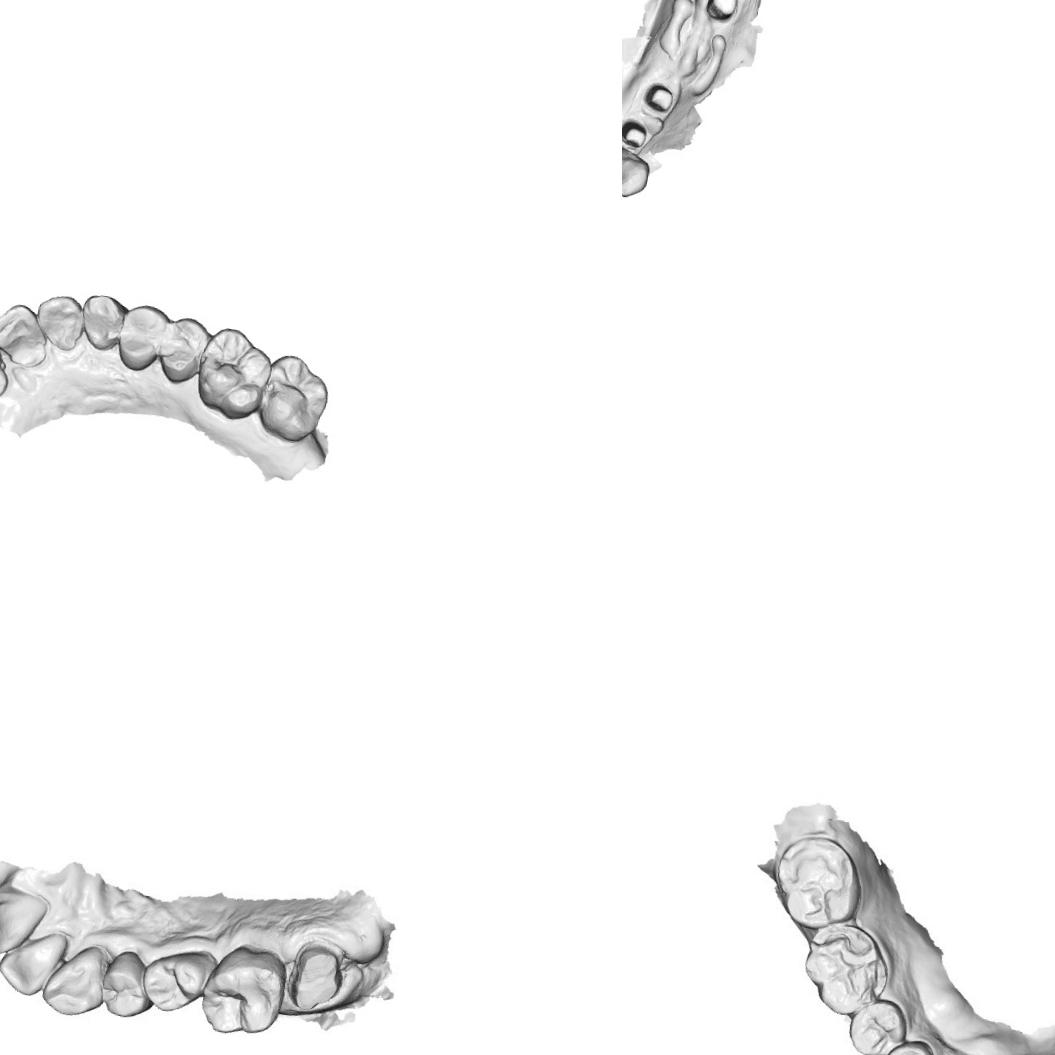abutment: (642, 82, 676, 115), (703, 0, 740, 25), (622, 116, 649, 150)
canine: (45, 948, 109, 1016), (74, 288, 132, 357), (622, 151, 652, 201)
crown: (287, 939, 348, 1016)
incisor: (0, 926, 68, 1000), (0, 297, 55, 374), (28, 289, 92, 355), (0, 889, 43, 953), (0, 329, 17, 407)
molar: (768, 832, 870, 932), (190, 322, 282, 426), (800, 925, 892, 1020), (252, 348, 336, 448), (204, 936, 288, 1035)
premolar: (111, 297, 172, 377), (154, 310, 214, 391), (146, 948, 210, 1011), (104, 957, 158, 1016), (848, 1003, 902, 1055), (877, 1035, 935, 1055)
